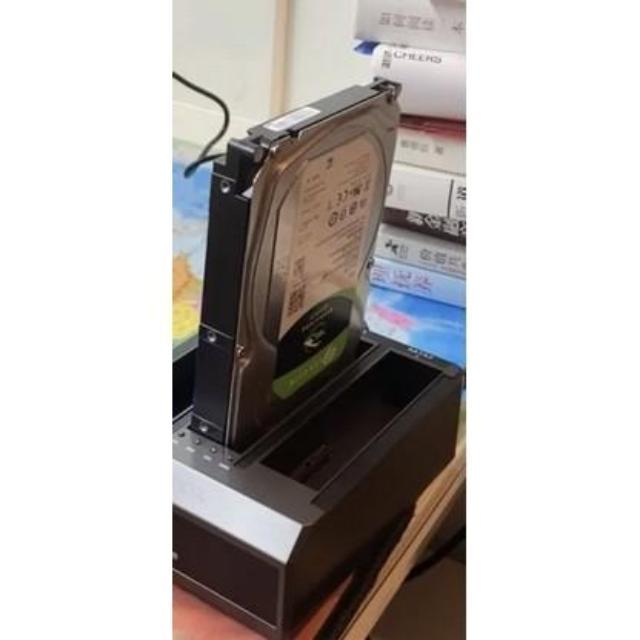DISK: (187, 66, 402, 440)
